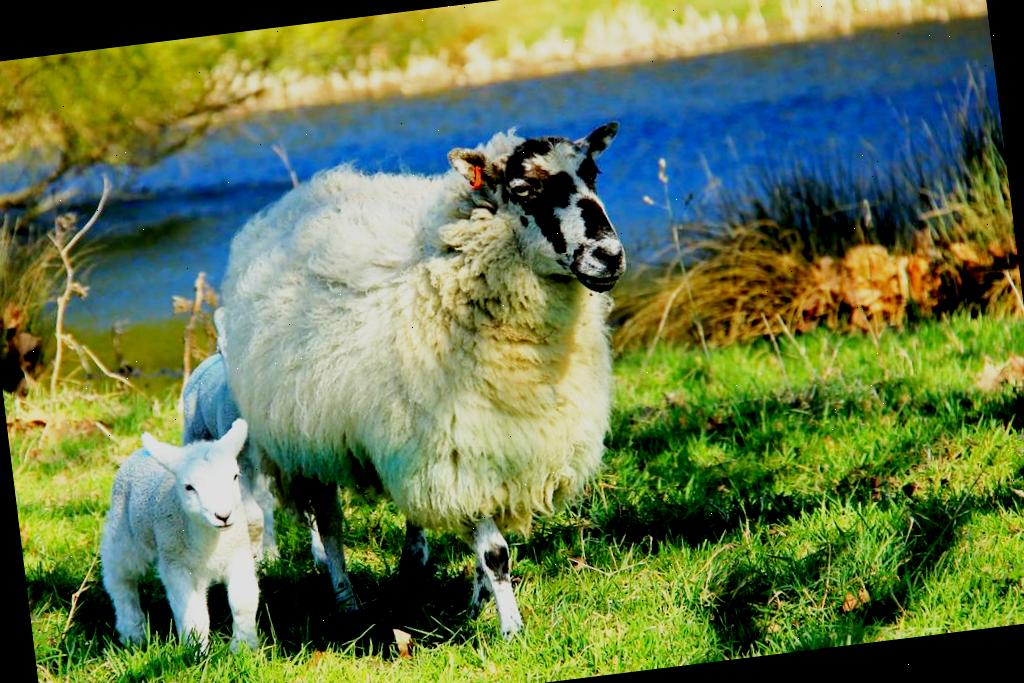Sheep: (200, 121, 676, 671), (82, 411, 274, 672), (166, 342, 330, 587)
